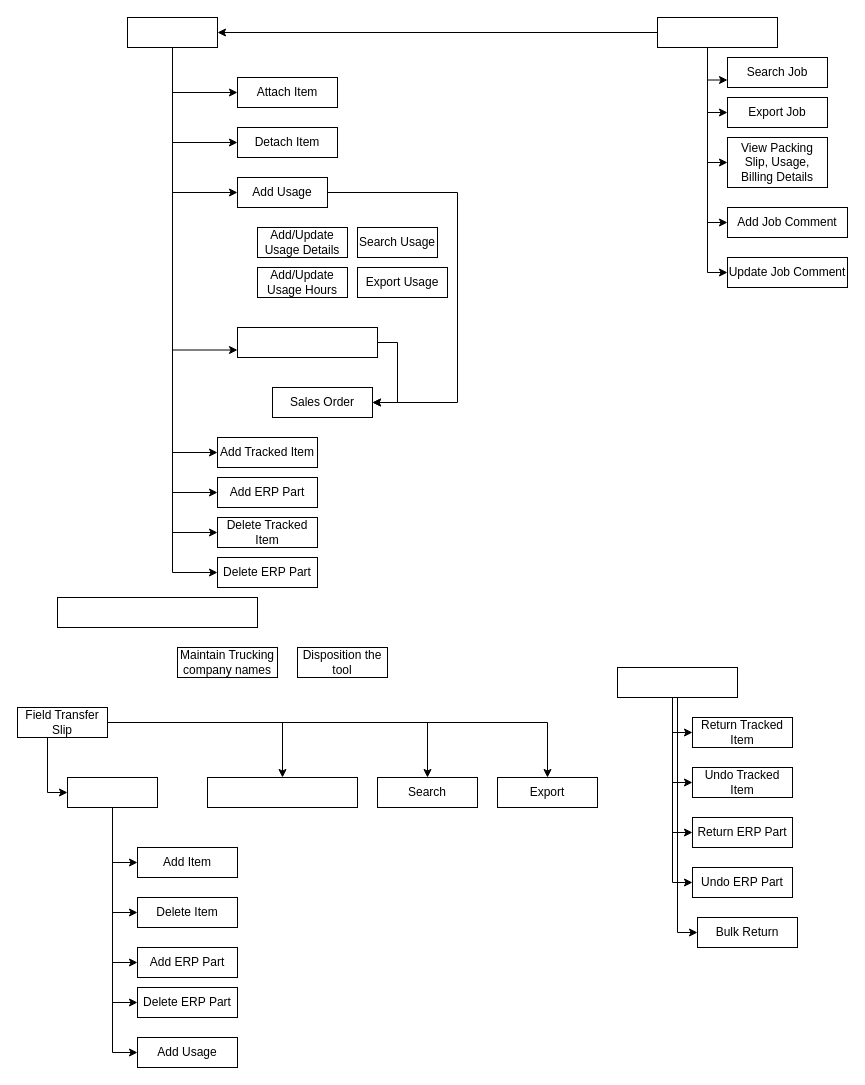
This 865x1085 diagram has some shape labels left out. The centre of each missing label's shape, as x and y in pixels:
"Auto Create Usage" goes at (307,342).
"Complete Field Transfer Slip" goes at (282,792).
"Complete Packing Slip" goes at (157,612).
"Create Field Transfer Slip" goes at (112,792).
"Create Packing Slip" goes at (172,32).
"Job" goes at (717,32).
"Return" goes at (677,682).
